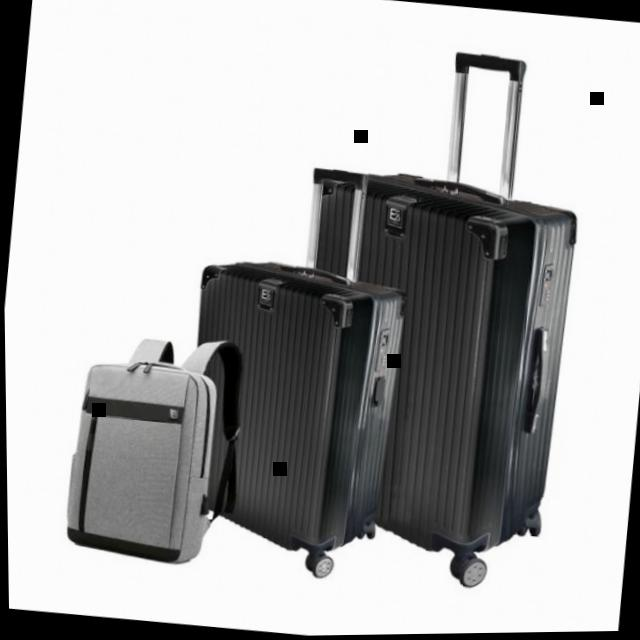luggage: (277, 157, 589, 575), (164, 243, 423, 580), (51, 344, 230, 583)
